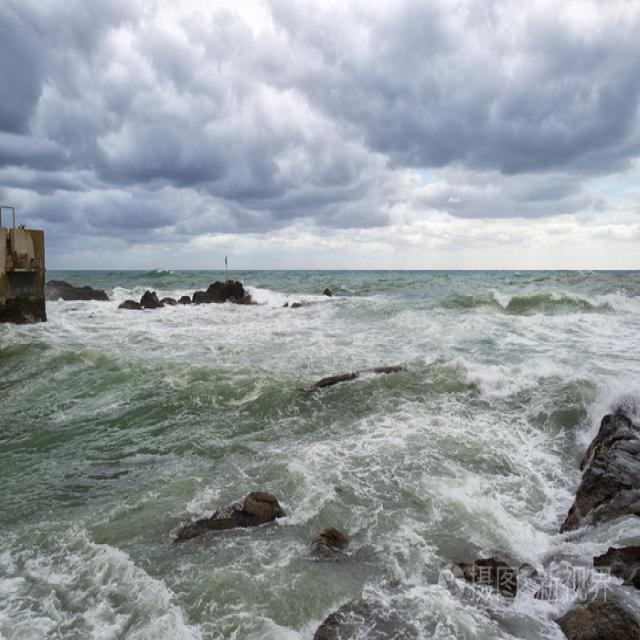reef: (548, 410, 640, 611), (168, 468, 304, 552), (116, 265, 262, 314)
